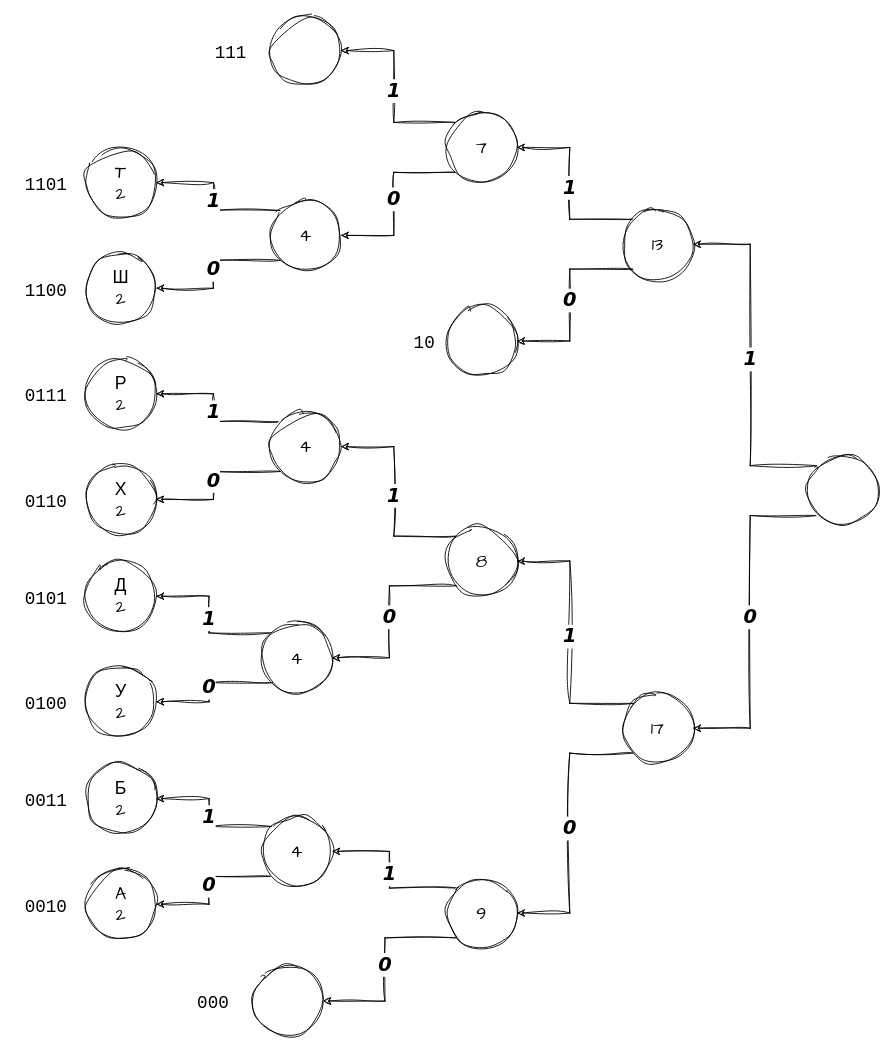
This 893x1052 diagram has some shape labels left out. Each missing label, with the box of its shape:
space 5: (252, 965, 323, 1036)
К 3: (270, 15, 341, 86)
О 6: (446, 305, 517, 376)
